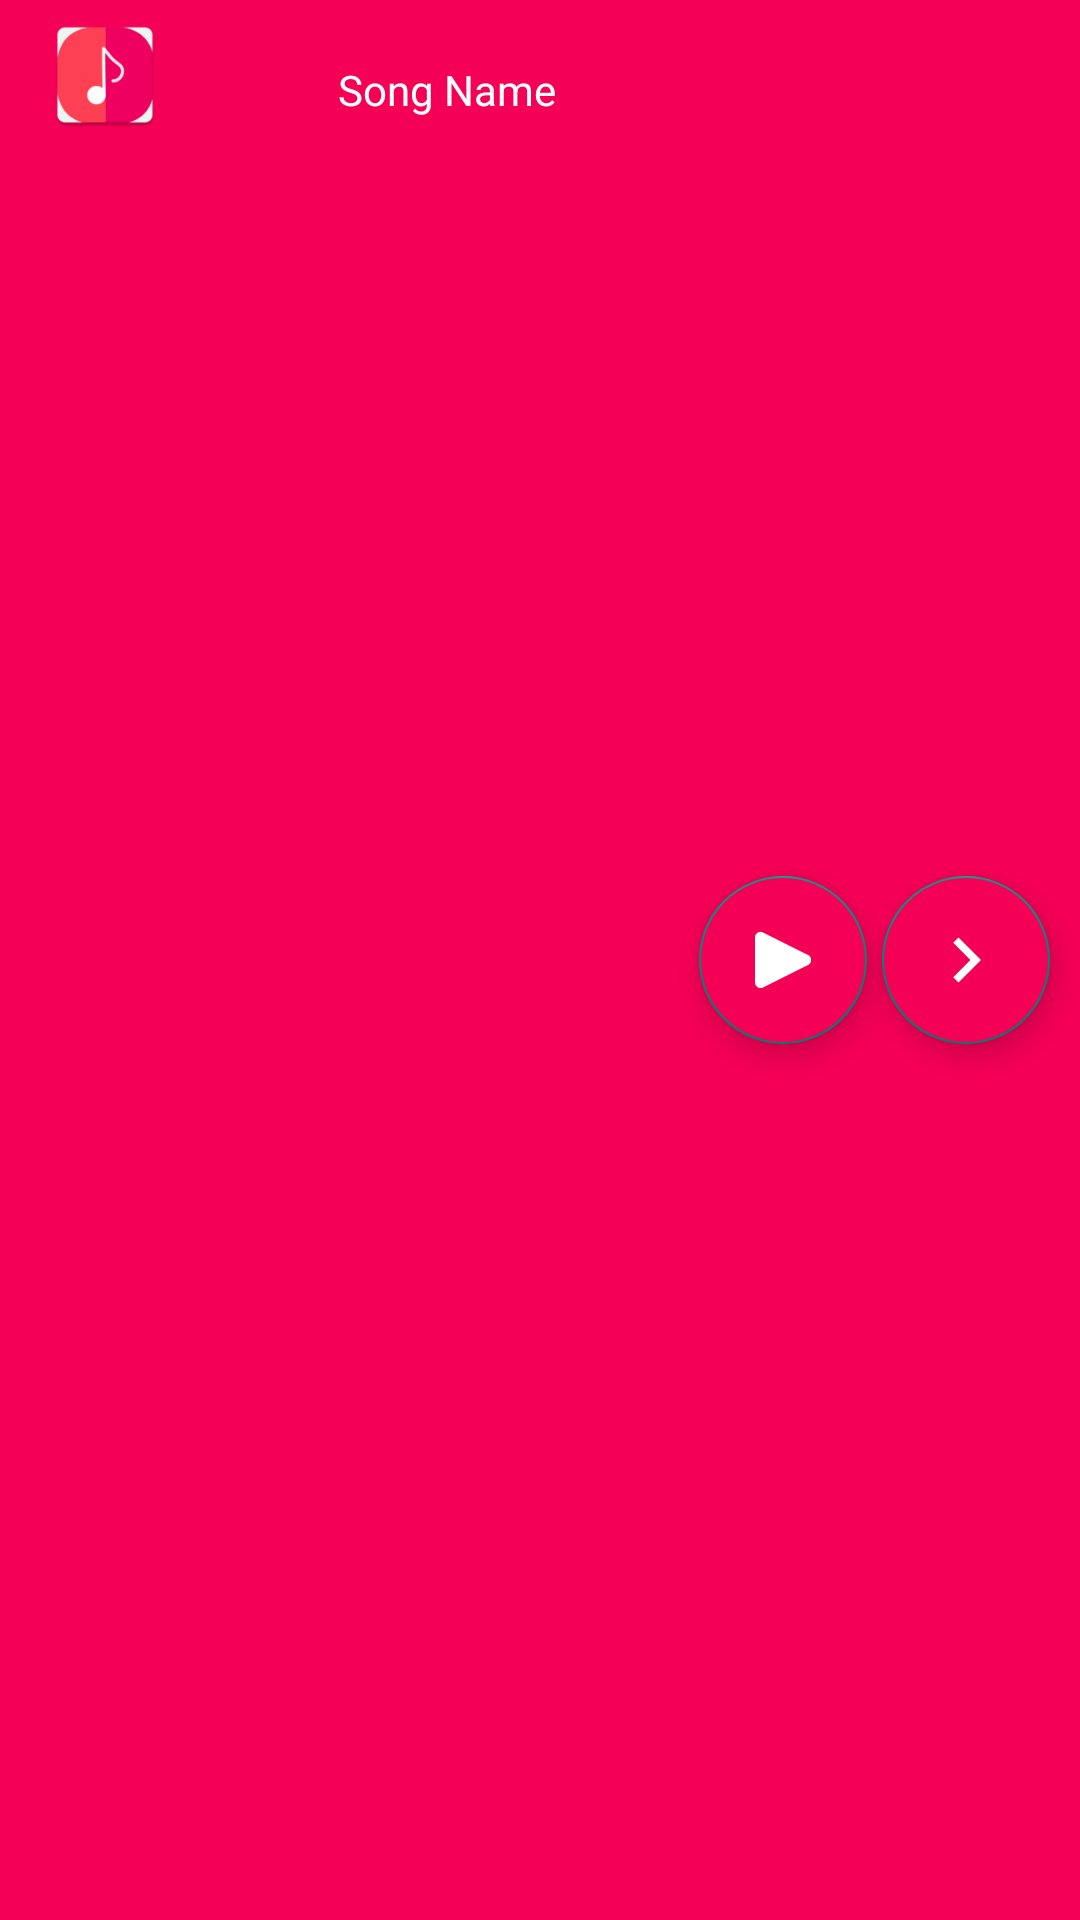

Icon click points for this 1080*1920 phone screenshot, format [x,y]:
music player: [105,76]
next: [966,960]
play: [783,960]
